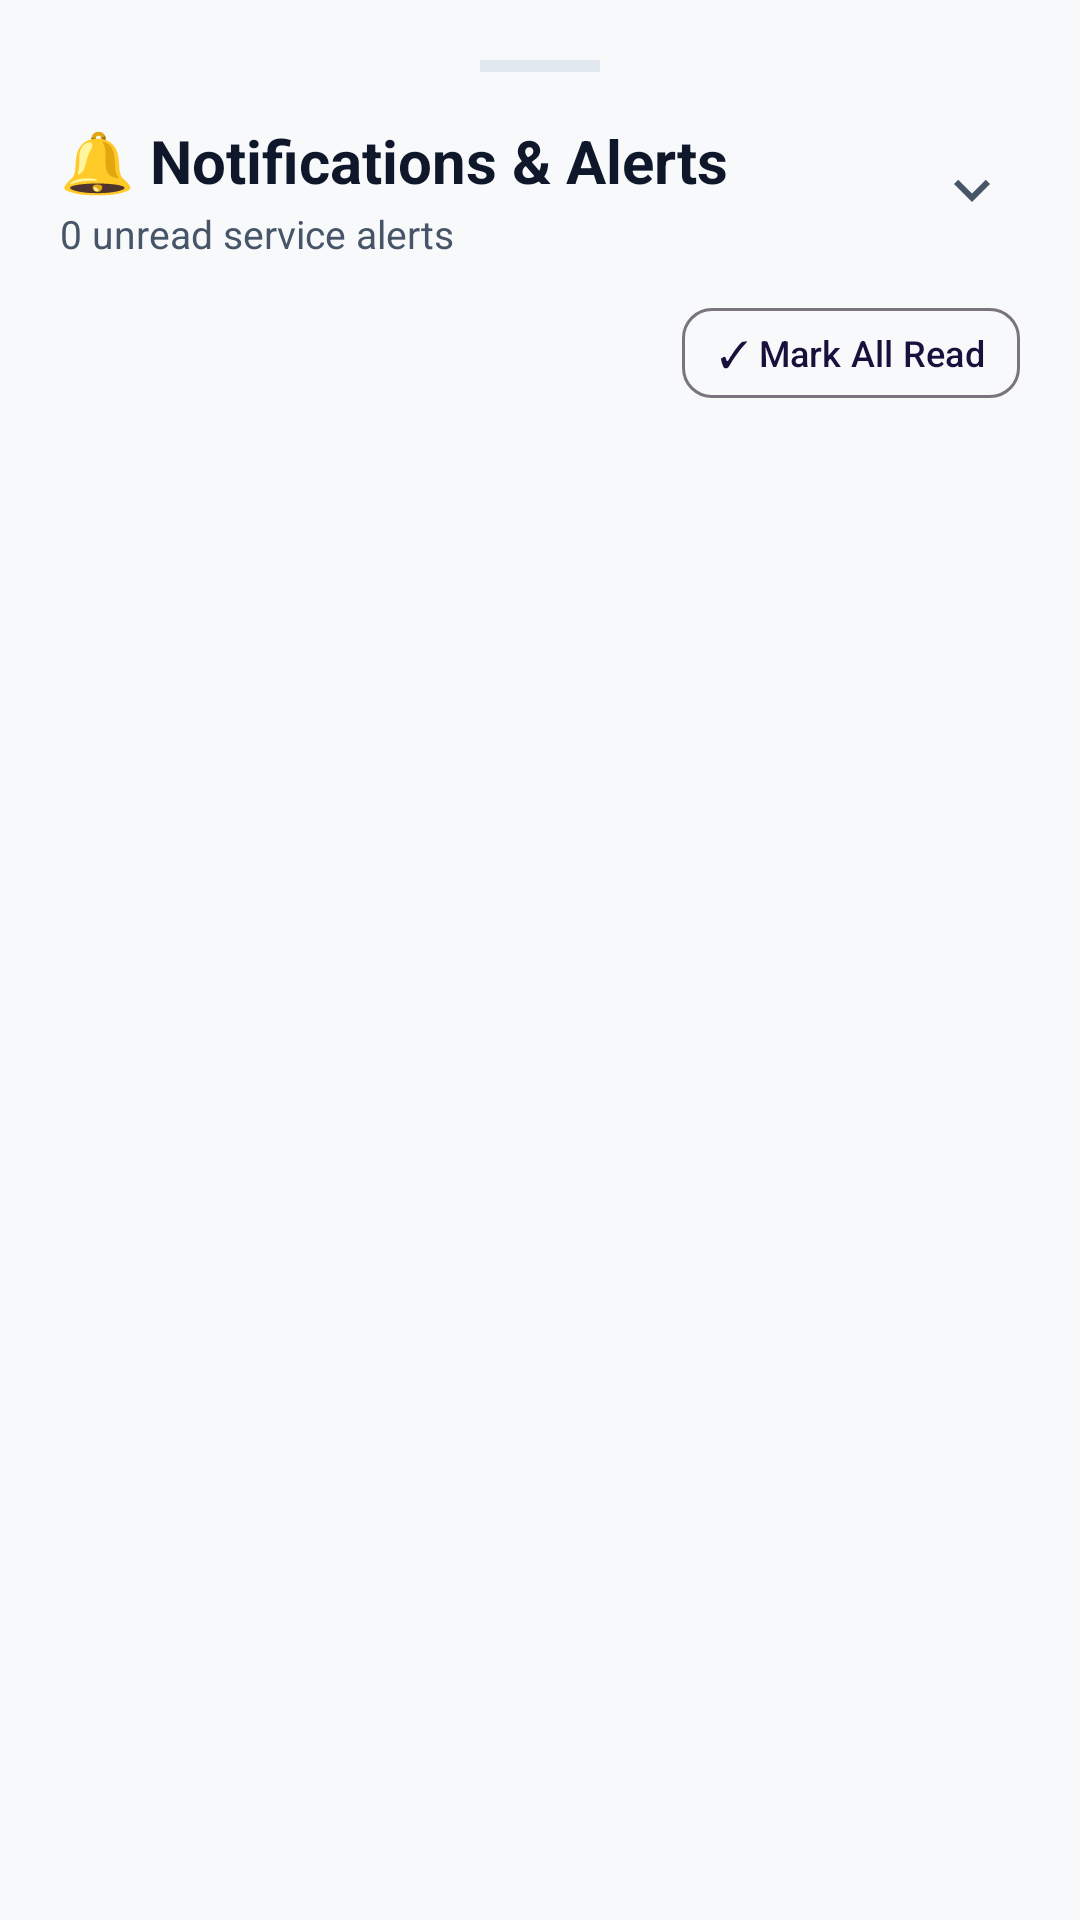

Where icons sit on this 1080 x 1920 app screen, as rect(x1, y1, x2, y2):
chevron down: rect(954, 180, 990, 202)
